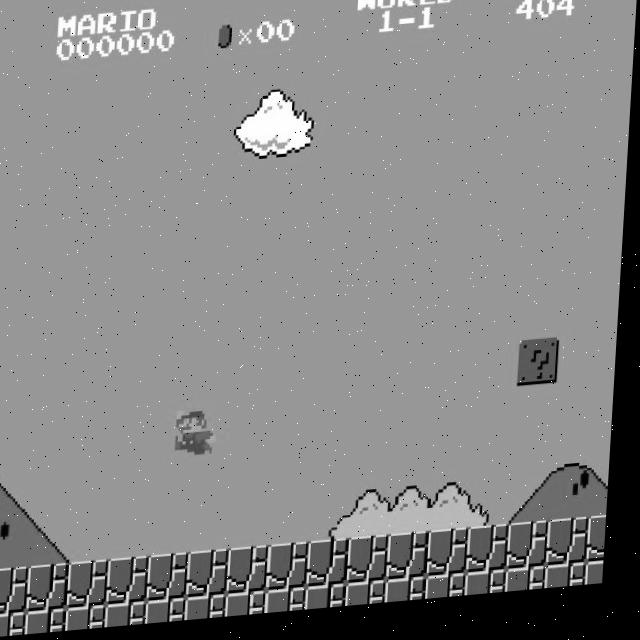11- little_mario: (177, 409, 223, 461)
13- mystery_block: (522, 348, 565, 397)
17- undestructible_block: (33, 564, 76, 613), (113, 559, 156, 608), (153, 556, 196, 605), (193, 553, 236, 602), (233, 550, 276, 599), (313, 545, 356, 594), (353, 542, 396, 591), (393, 539, 436, 588), (433, 536, 476, 585), (513, 531, 556, 580), (553, 528, 596, 577), (73, 562, 116, 610), (273, 548, 316, 596), (473, 534, 516, 582), (0, 567, 36, 616), (32, 610, 74, 636), (72, 607, 114, 633), (112, 604, 154, 630), (152, 601, 194, 627), (232, 596, 274, 622), (272, 593, 314, 619), (312, 590, 354, 616), (352, 587, 394, 613), (432, 582, 474, 608), (472, 579, 514, 605), (512, 576, 554, 602), (552, 573, 594, 599), (192, 599, 234, 624), (392, 585, 434, 610), (593, 526, 613, 574), (0, 613, 34, 638), (592, 572, 611, 596)
